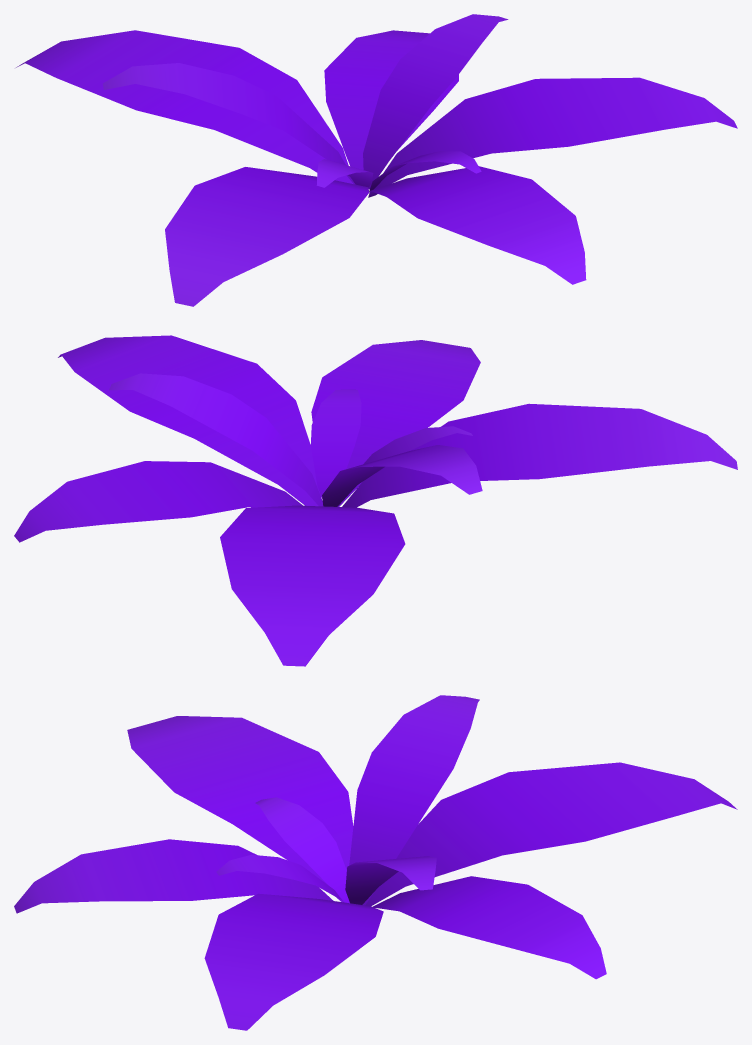
File: plant3_004.fbx
The picture shows the model from 3 angles, top to bottom: view 1: azimuth 30°, elevation 25°; view 2: azimuth 150°, elevation 25°; view 3: azimuth 270°, elevation 25°; orthographic projection. The views are drawn at different scales.
Parts seen in each view (by area): view 1: plant3.004; view 2: plant3.004; view 3: plant3.004.
Part boxes in pixels (left/top/right/bottom): plant3.004: left=16, top=14, right=737, bottom=306; plant3.004: left=14, top=335, right=737, bottom=666; plant3.004: left=14, top=695, right=737, bottom=1030.
Size of the model in its own units: 40.92 by 7.92 by 41.89.
